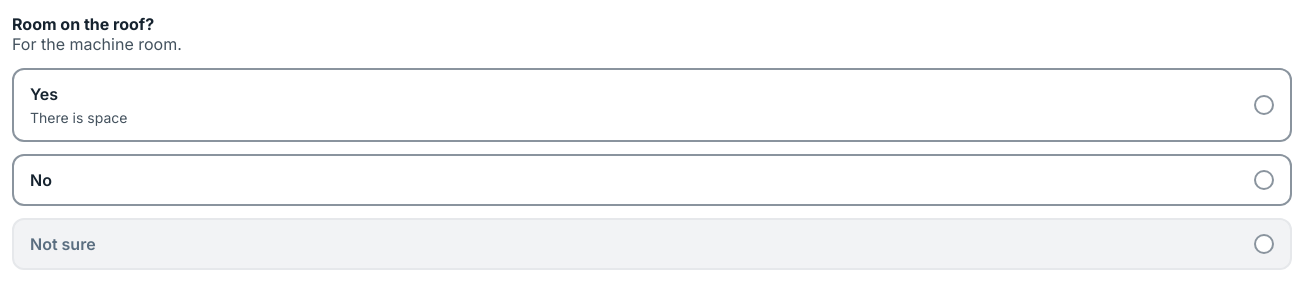
ChoiceCard › selects by clicking the card and moves with the arrow keys
Click the text "Yes".
click(44, 94)  # box [30, 84, 58, 104]
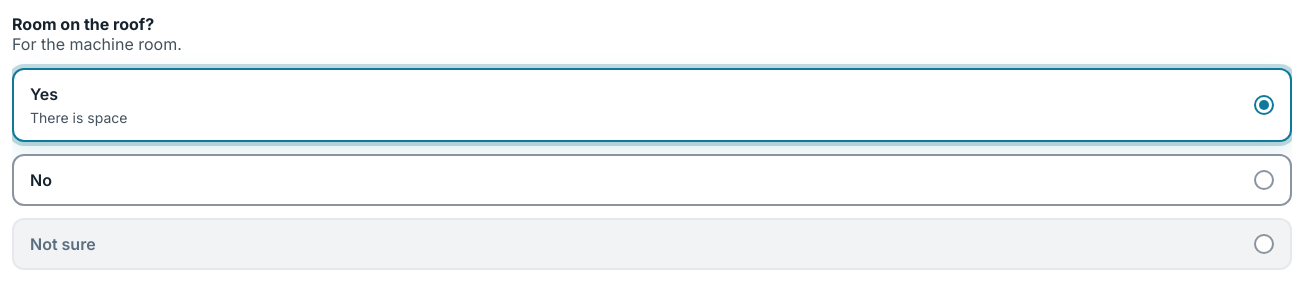
expect the radio button labelled "Yes" is checked: met, box [12, 68, 1291, 142]
Press Arrowdown
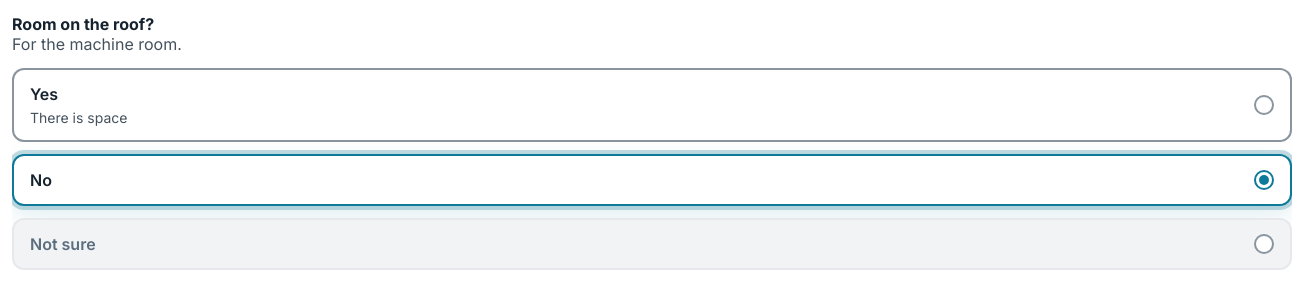
expect the radio button labelled "No" is checked: met, box [12, 154, 1291, 206]
